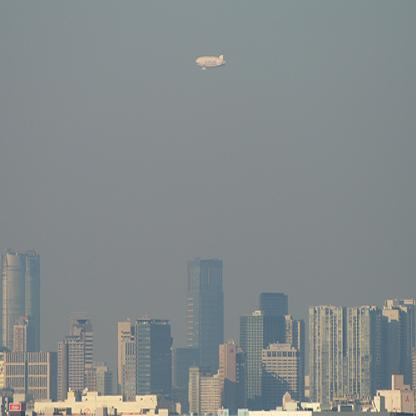Airship: (194, 52, 226, 74)
